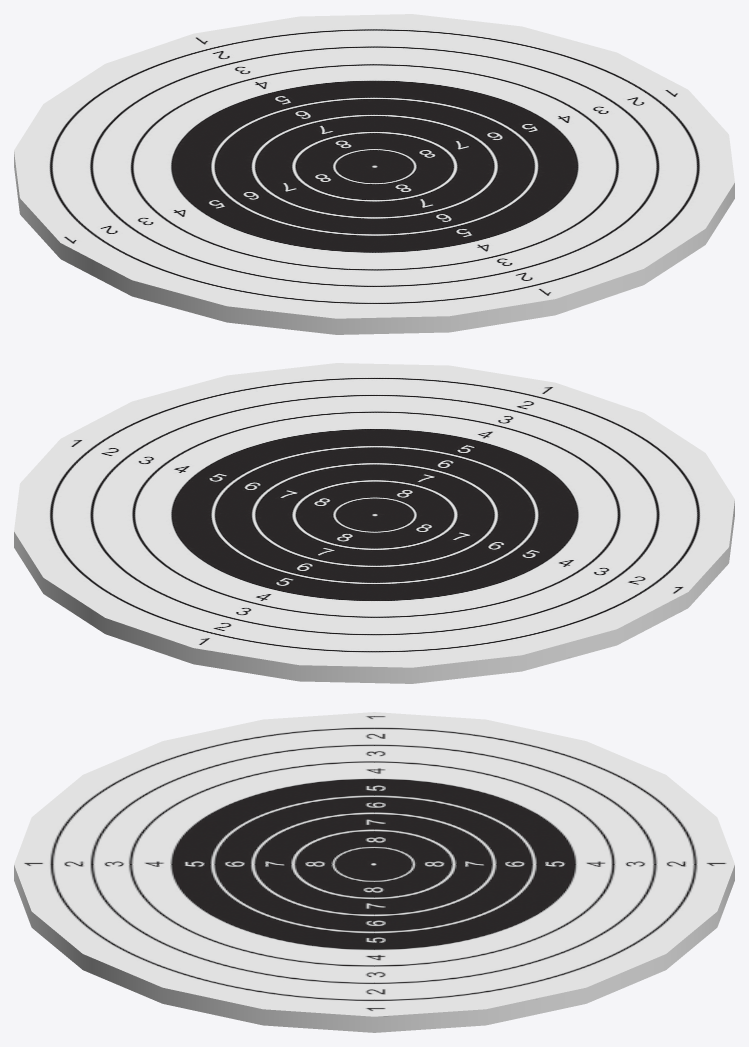
File: Tarcza1.fbx
The picture shows the model from 3 angles, top to bottom: view 1: azimuth 30°, elevation 25°; view 2: azimuth 150°, elevation 25°; view 3: azimuth 270°, elevation 25°; orthographic projection.
Parts seen in each view (by area): view 1: Tarcza; view 2: Tarcza; view 3: Tarcza.
Part boxes in pixels (x1,y1,x2,y2): Tarcza: [14, 14, 734, 334]; Tarcza: [14, 363, 734, 683]; Tarcza: [14, 712, 734, 1032].
Size of the model in its own units: 19.73 by 0.4888 by 19.73.
Materials: 1 (1 with a texture image).
